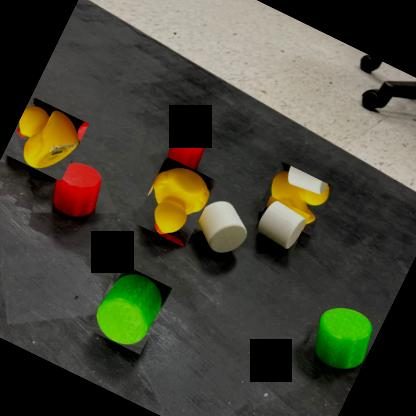duck: (134, 157, 218, 248), (3, 96, 89, 182), (257, 161, 334, 236)
green cylinder: (88, 263, 173, 355), (301, 296, 383, 382)
red cylinder: (40, 154, 112, 228), (160, 124, 212, 178)
white cylinder: (186, 192, 258, 263), (252, 196, 310, 254)
